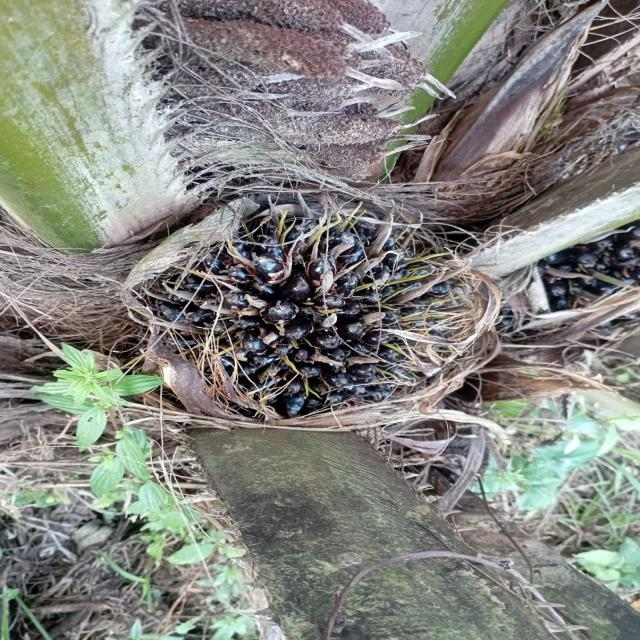fraksi 00: (87, 147, 484, 480)
